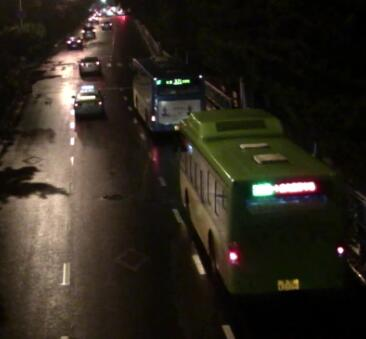bus: (174, 110, 349, 301), (132, 50, 204, 128)
car: (72, 85, 100, 112), (77, 53, 103, 73), (67, 35, 83, 49), (80, 26, 95, 40), (98, 18, 113, 31)
